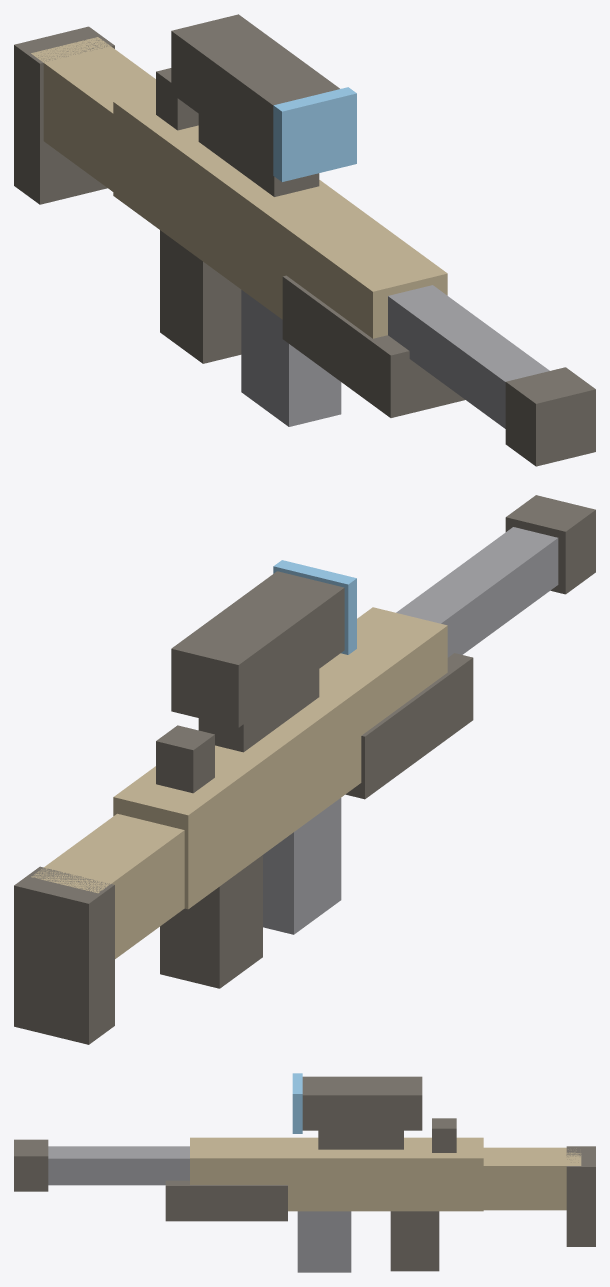
Rendered from Rifle.glb.
3 views of the same model, one above another, from view 1: azimuth 30°, elevation 25°; view 2: azimuth 150°, elevation 25°; view 3: azimuth 270°, elevation 25° (orthographic). The views are drawn at different scales.
Parts seen in each view (by area): view 1: Rifle; view 2: Rifle; view 3: Rifle.
Boxes of the visible parts, bbox=[...] form: Rifle: bbox=[14, 14, 595, 466]; Rifle: bbox=[14, 495, 595, 1044]; Rifle: bbox=[14, 1073, 595, 1272].
Bounding box in the file's own units: 0.1375 × 0.5125 × 1.49.
